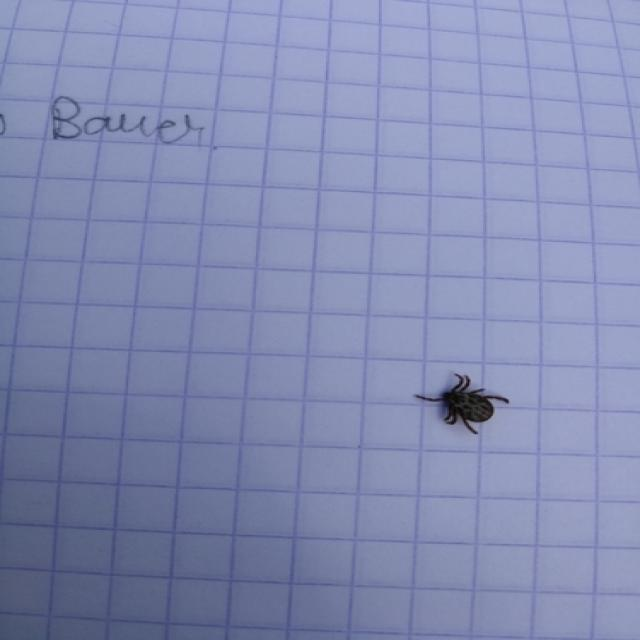Dermacentor Reticulatus-M: (413, 376, 510, 433)
